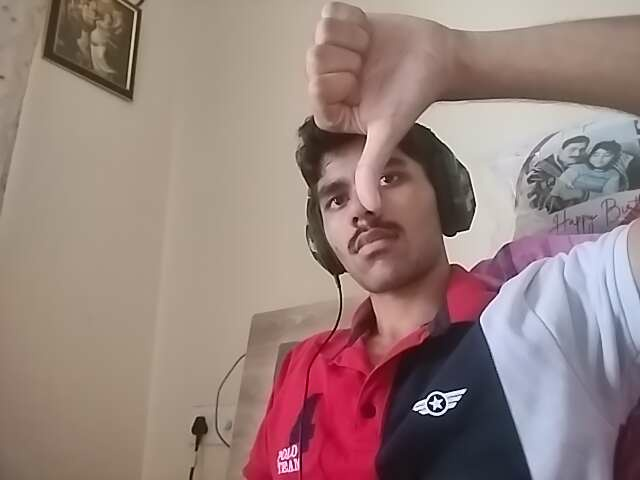No: (303, 1, 438, 212)
